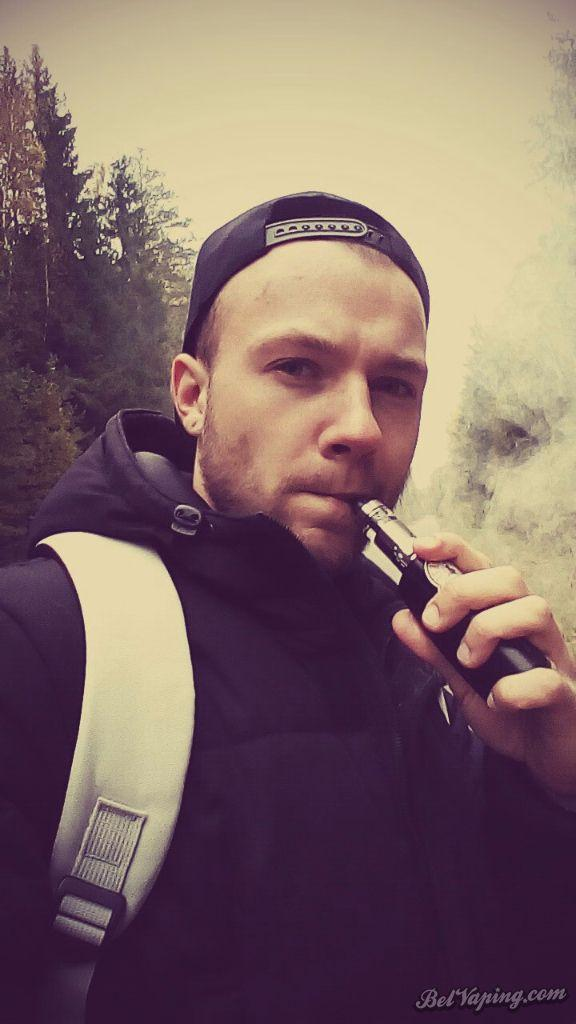Vape: (352, 499, 553, 700)
